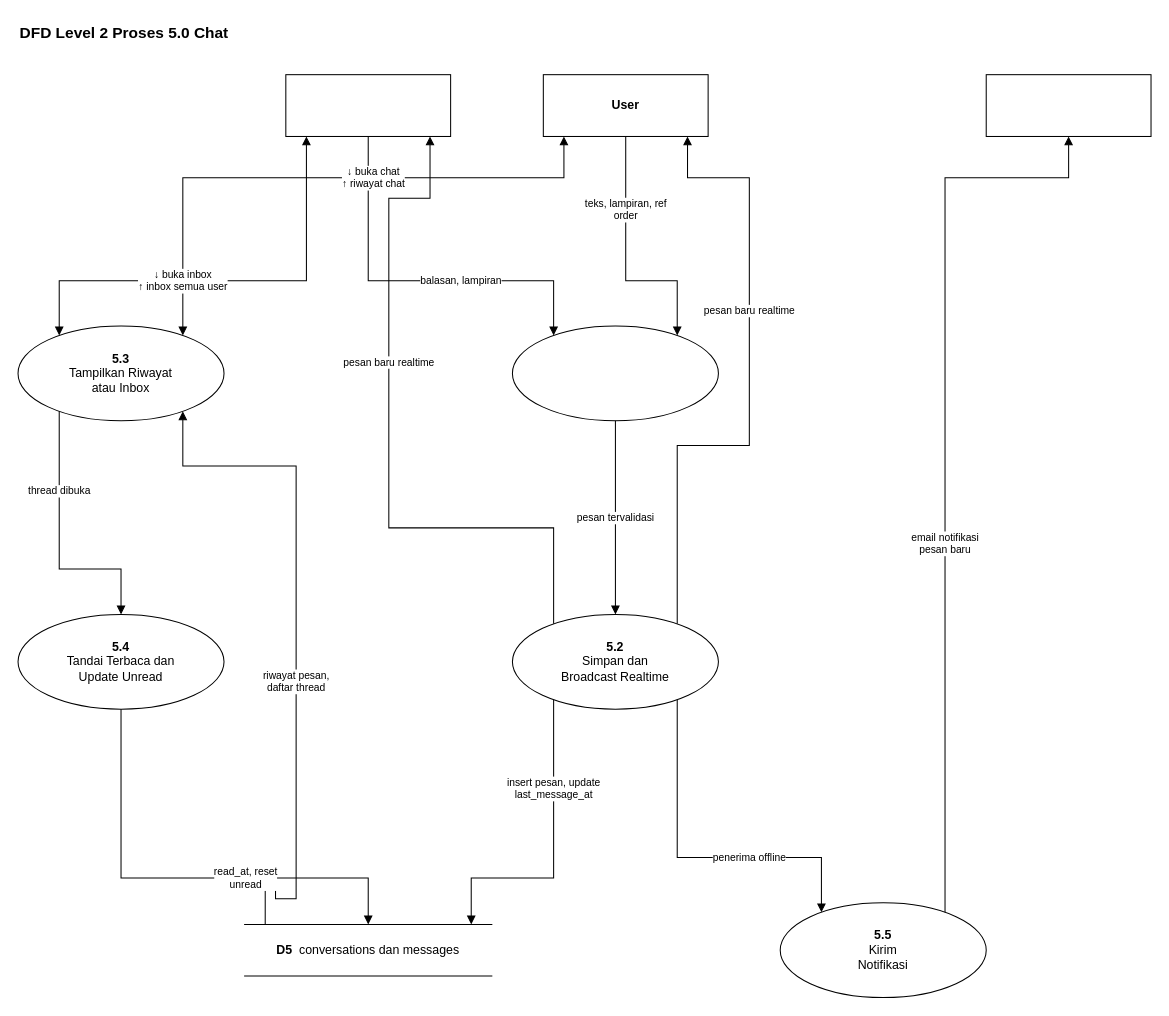
Some shapes in this 1169 by 1016 pixel diagram are drawn without their labels. The centre of each missing label's shape, as x and y in pixels:
5.1 Kirim Pesan: point 614,373
Admin / Owner: point 368,105
Layanan Email: point 1068,105
